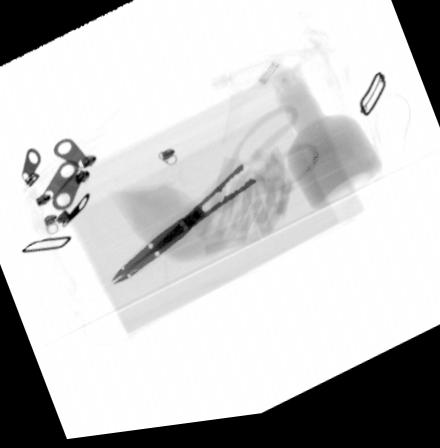Scissors: (112, 116, 319, 287)
